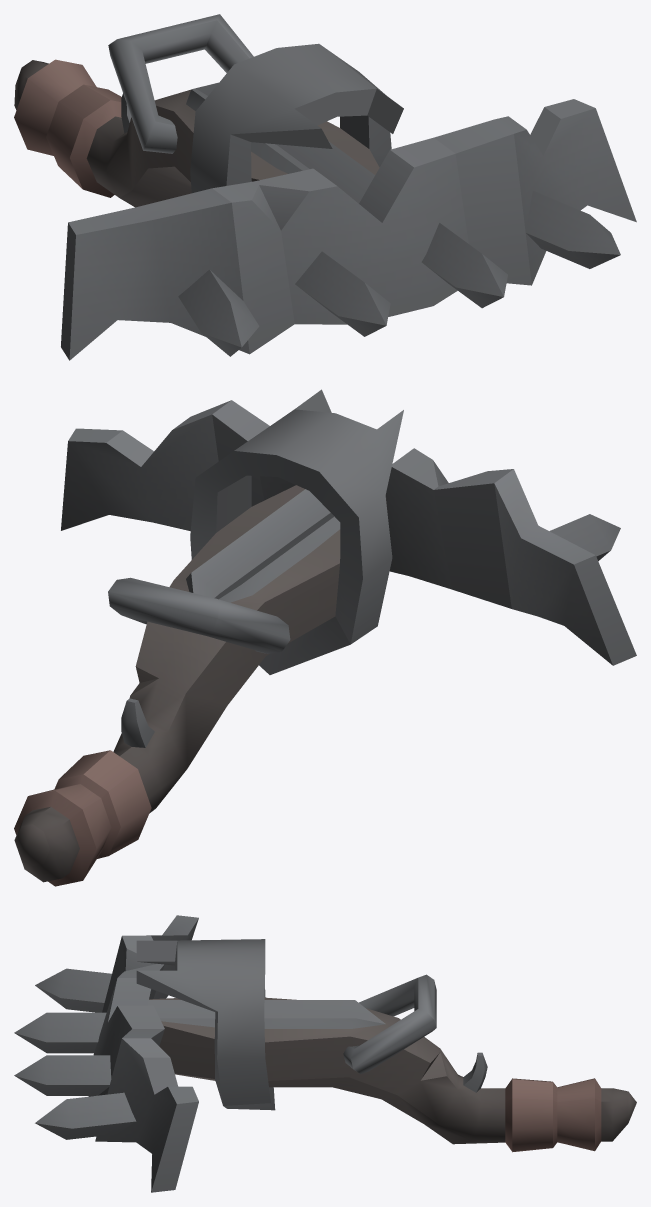
Rendered from Skeleton_Crossbow.glb.
The picture shows the model from 3 angles, top to bottom: view 1: azimuth 30°, elevation 25°; view 2: azimuth 150°, elevation 25°; view 3: azimuth 270°, elevation 25°; orthographic projection. The views are drawn at different scales.
Parts seen in each view (by area): view 1: Skeleton_Crossbow; view 2: Skeleton_Crossbow; view 3: Skeleton_Crossbow.
Boxes of the visible parts, x1,y1,x2,y2 form: Skeleton_Crossbow: [14, 14, 636, 360]; Skeleton_Crossbow: [14, 389, 636, 886]; Skeleton_Crossbow: [14, 915, 636, 1192].
Bounding box in the file's own units: 1.11 × 0.5082 × 1.42.
Materials: 1 (1 with a texture image).
